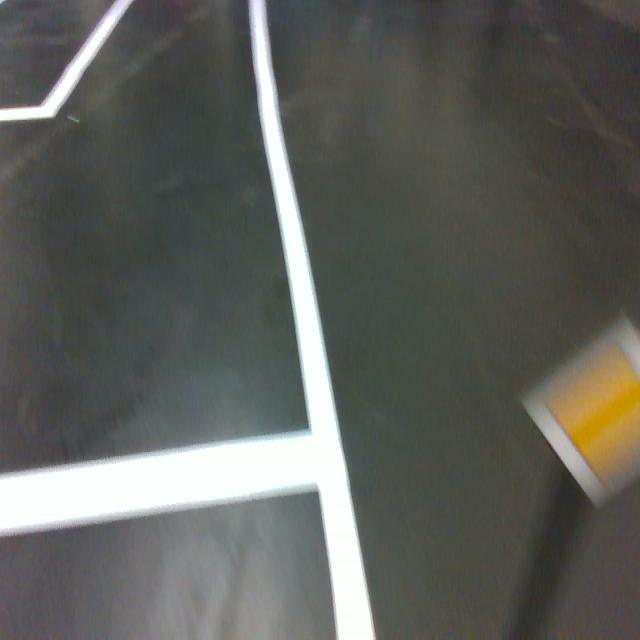priority-sign: (519, 310, 640, 510)
